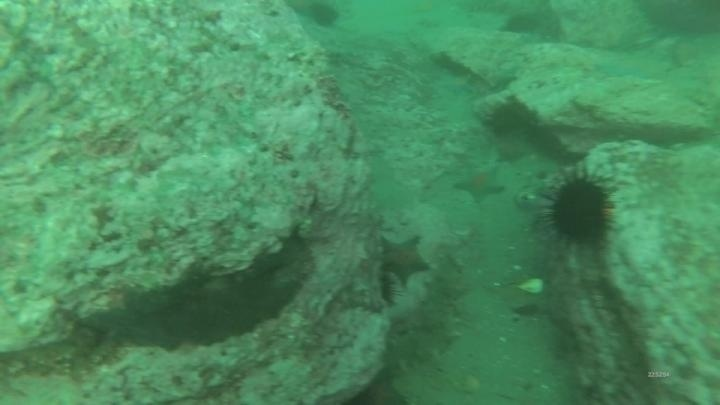echinus: (541, 171, 618, 251), (484, 98, 532, 139), (500, 11, 544, 39), (306, 2, 342, 30)
holothurian: (382, 309, 461, 375), (421, 252, 467, 350)
starfish: (377, 232, 432, 286), (452, 163, 507, 205), (595, 54, 666, 83), (438, 73, 476, 98)
